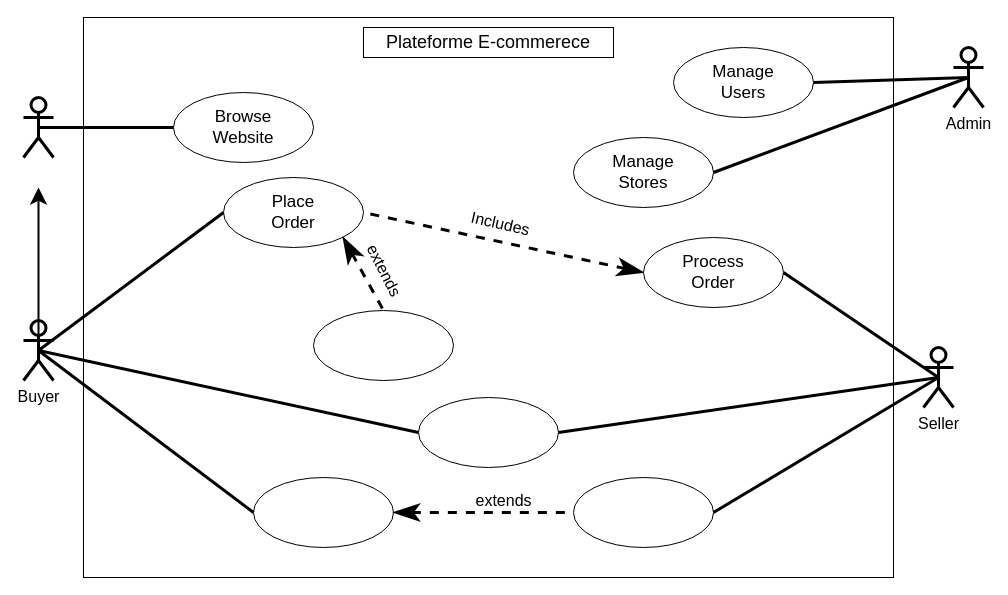
Some shapes in this 1008 by 595 pixel diagram are drawn without their labels. Here are the shapes that lost their labels. From the top down, the centre of each, then its label:
At point 38,127: "Visitor".
At point 383,345: "Track Order".
At point 488,432: "Manage Profile".
At point 323,512: "Contact Seller".
At point 643,512: "Contact Buyer".
